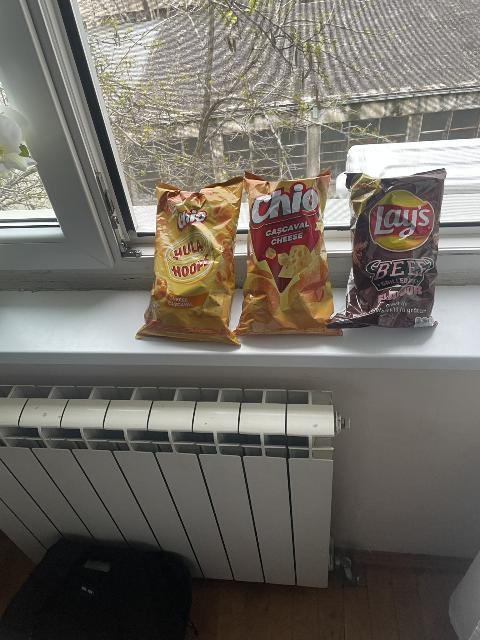Chio Cascaval 125g: (237, 168, 342, 337)
Chio Hula Hoops Cheese 70g: (138, 177, 248, 344)
Lays Beef Grilled Ribs 125g: (332, 168, 446, 330)
